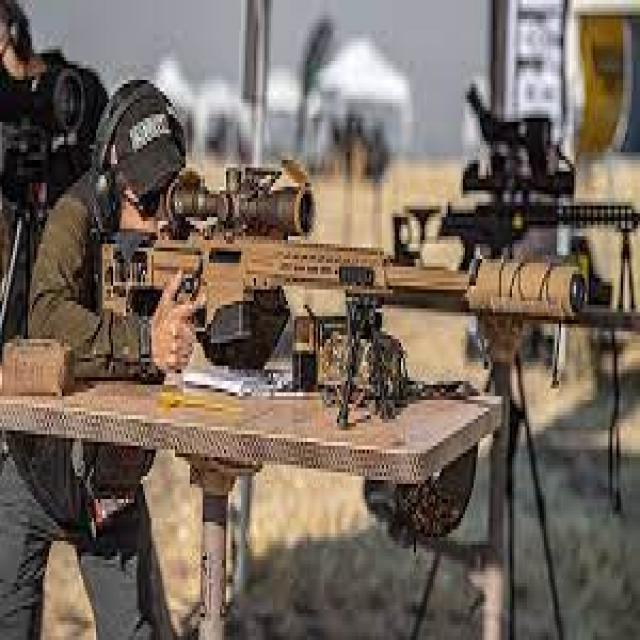rifle: (81, 156, 614, 390), (393, 132, 640, 306)
